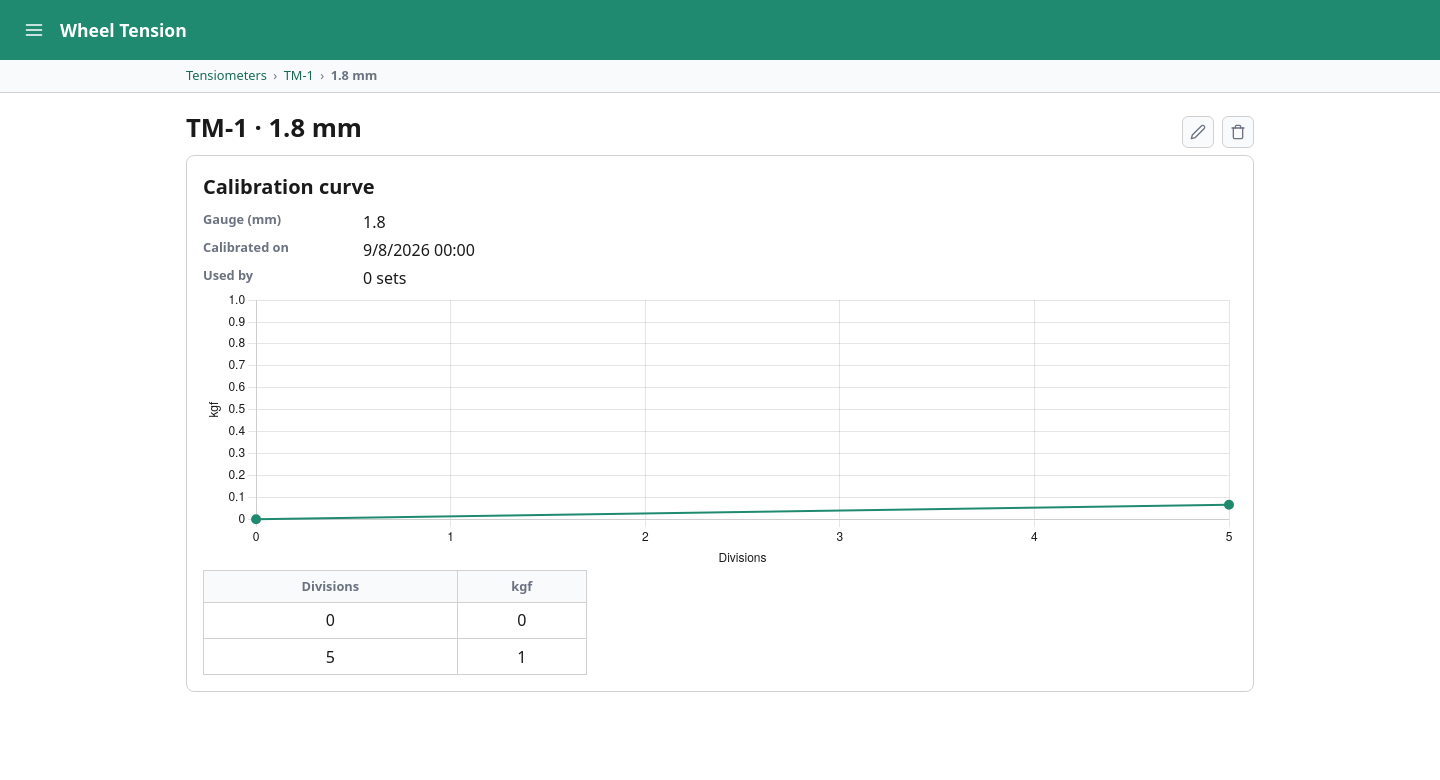
Test case: CurveDetailPage › opens the curve editor via the edit icon
Click the button named "Edit curve". click: click(1198, 132)
box: [1182,116,1214,148]
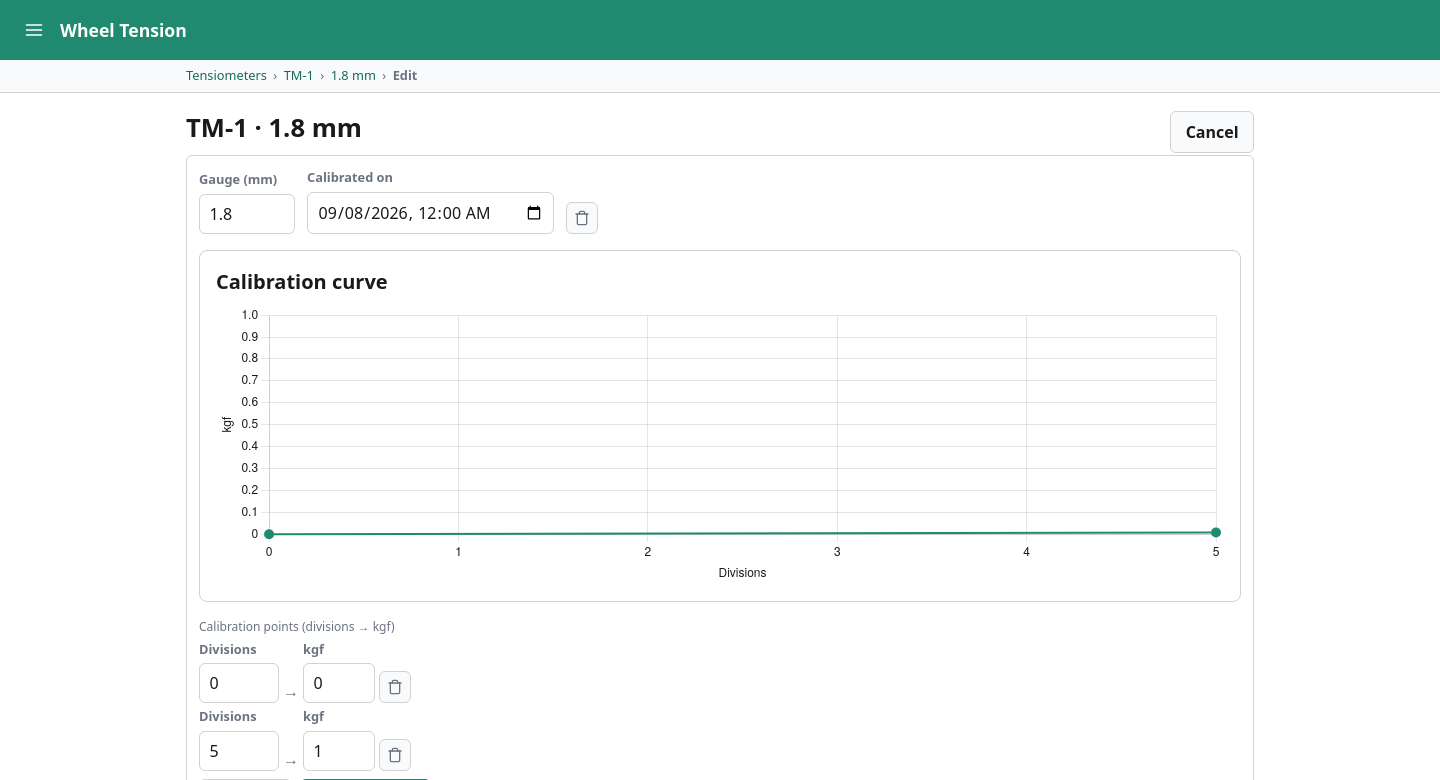
Check: the number field labelled "Gauge (mm)" is shown, box [199,194,295,234]
